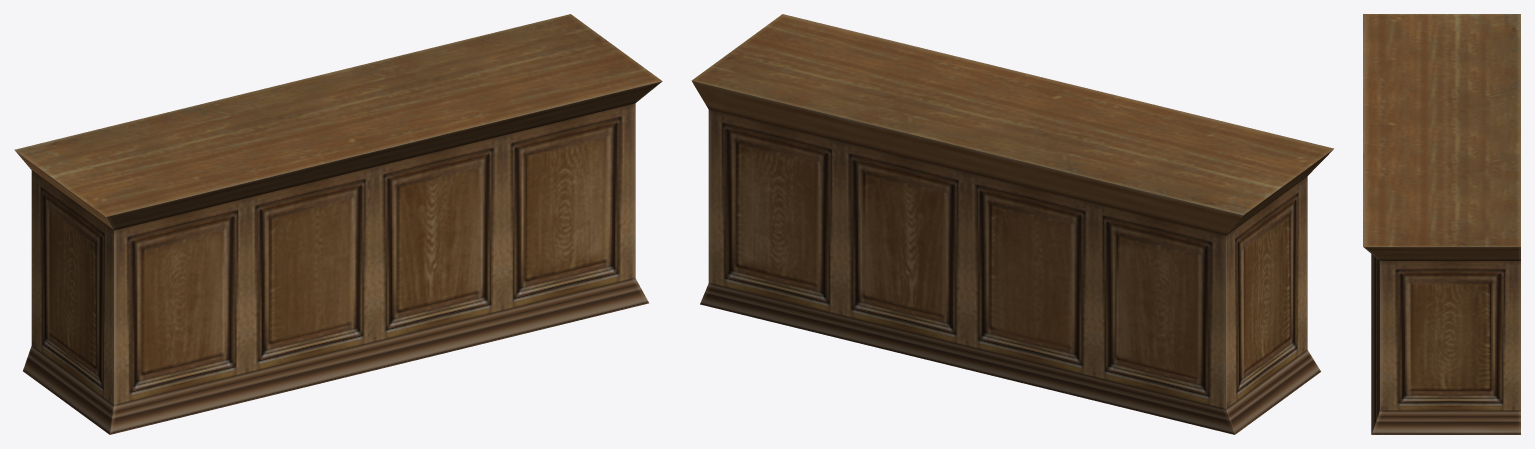
File: counter.fbx
3 renders of one model, left to right at view 1: azimuth 30°, elevation 25°; view 2: azimuth 150°, elevation 25°; view 3: azimuth 270°, elevation 25°, orthographic. The views are drawn at different scales.
Visible parts, largest first — view 1: counter; view 2: counter; view 3: counter.
Boxes of the visible parts, x1,y1,x2,y2 form: counter: [14, 14, 662, 434]; counter: [691, 14, 1333, 434]; counter: [1363, 14, 1520, 434].
Size of the model in its own units: 117 by 45 by 33.55.
